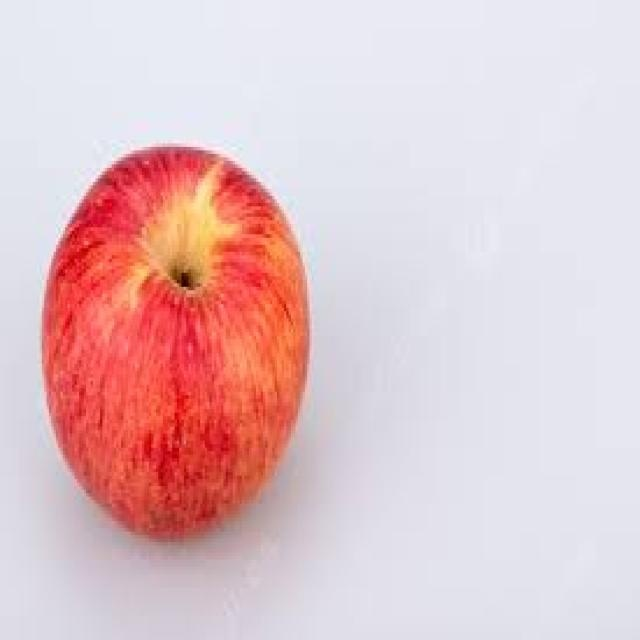agrume: (23, 131, 321, 570)
